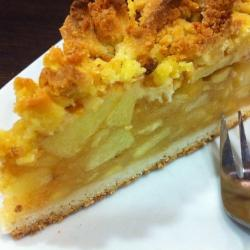apple_pie: (3, 2, 250, 224)
